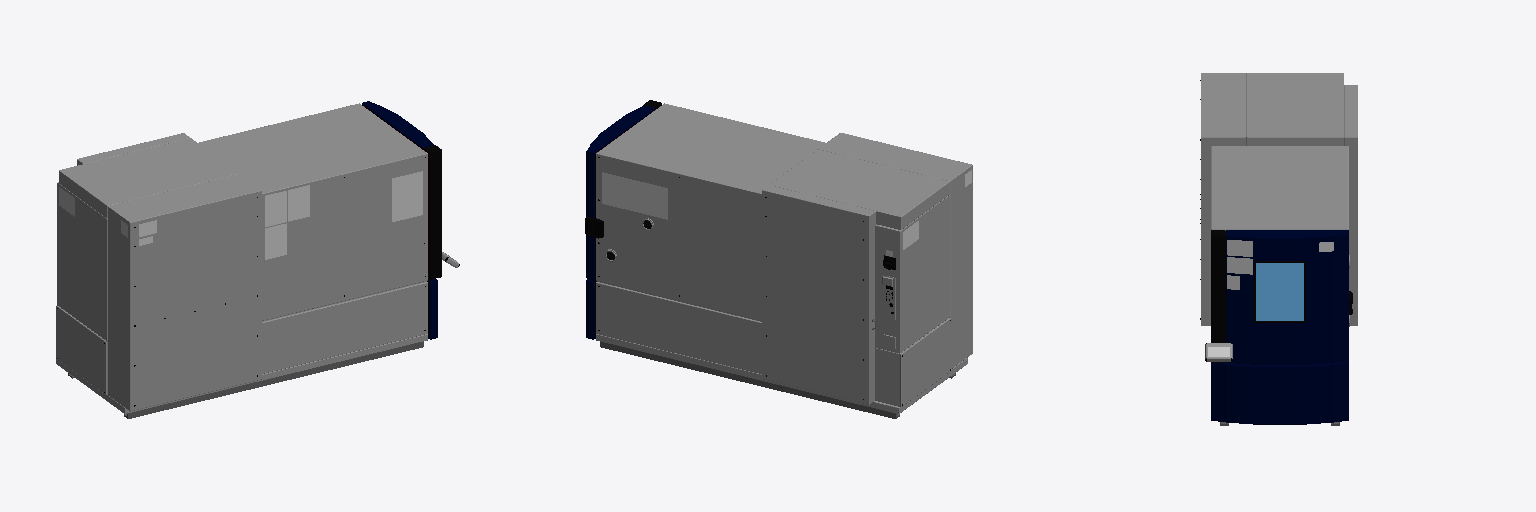
Rendered from 15GDWKSWX.obj.
The picture shows the model from 3 angles: view 1: azimuth 30°, elevation 25°; view 2: azimuth 150°, elevation 25°; view 3: azimuth 270°, elevation 25°; orthographic projection.
Visible parts, largest first — view 1: Matel_02, tex, Matel_04, Matel_01, Matel_Blue; view 2: Matel_02, tex, Matel_Blue, Matel_01, Matel_04; view 3: Matel_02, Matel_Blue, Glass, Matel_04, tex.
Part boxes in pixels (bbox=[...]): Matel_02: bbox=[56, 103, 458, 413]; tex: bbox=[59, 171, 448, 259]; Matel_04: bbox=[57, 145, 459, 392]; Matel_01: bbox=[68, 342, 423, 418]; Matel_Blue: bbox=[362, 101, 437, 339]; Matel_02: bbox=[596, 103, 972, 413]; tex: bbox=[602, 170, 971, 256]; Matel_Blue: bbox=[586, 105, 654, 339]; Matel_01: bbox=[600, 276, 955, 418]; Matel_04: bbox=[585, 100, 950, 405]; Matel_02: bbox=[1201, 73, 1357, 361]; Matel_Blue: bbox=[1211, 230, 1348, 424]; Glass: bbox=[1256, 263, 1303, 320]; Matel_04: bbox=[1205, 230, 1352, 362]; tex: bbox=[1208, 240, 1333, 356].
Size of the model in its own units: 137 by 80.66 by 56.85.